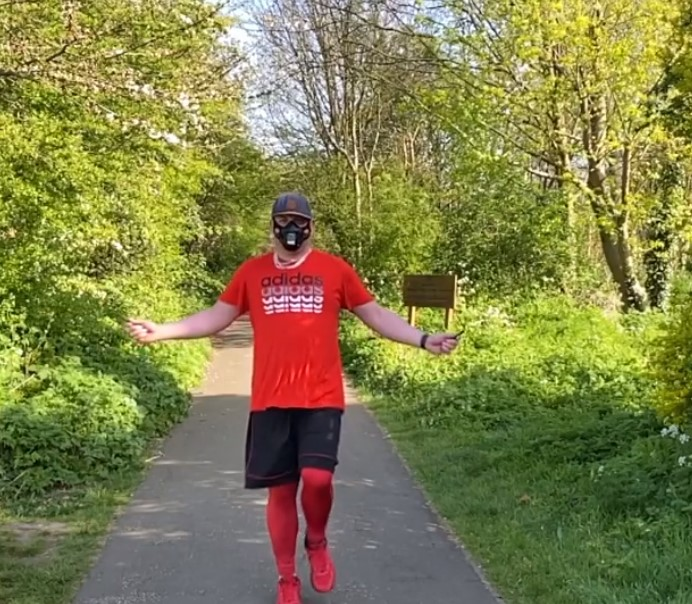face_with_mask: (266, 193, 320, 258)
